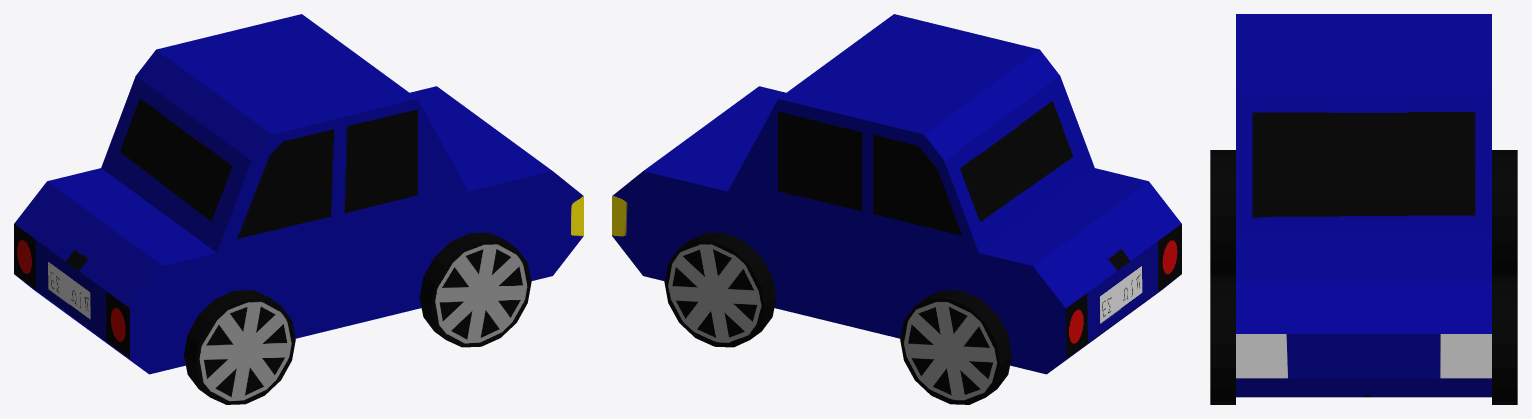
The model's file is car1_blue.gltf.
3 renders of one model, left to right at view 1: azimuth 30°, elevation 25°; view 2: azimuth 150°, elevation 25°; view 3: azimuth 270°, elevation 25°, orthographic. The views are drawn at different scales.
Visible parts, largest first — view 1: car, tireBR, tireFR; view 2: car, tireBL, tireFL; view 3: car, tireFL, tireFR, tireBL, tireBR.
Boxes of the visible parts, left/top/right/bottom form: car: left=14, top=14, right=583, bottom=374; tireBR: left=184, top=290, right=295, bottom=404; tireFR: left=419, top=232, right=531, bottom=347; car: left=612, top=14, right=1181, bottom=374; tireBL: left=900, top=290, right=1011, bottom=404; tireFL: left=664, top=232, right=776, bottom=347; car: left=1236, top=14, right=1491, bottom=397; tireFL: left=1492, top=277, right=1517, bottom=404; tireFR: left=1210, top=277, right=1235, bottom=404; tireBL: left=1492, top=150, right=1517, bottom=276; tireBR: left=1210, top=150, right=1235, bottom=276.
Bounding box in the file's own units: 4.52 × 2.4 × 2.4.
Materials: 5 (5 with a texture image).
